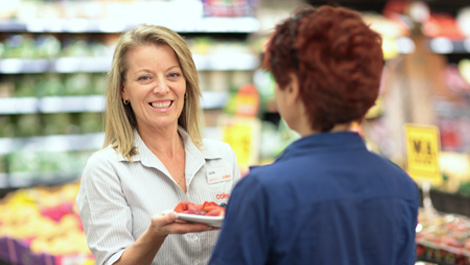Age_above_50: (121, 37, 193, 122)
E_White: (121, 37, 193, 122)
Emotion_Happy: (121, 37, 193, 122)
G_ Female: (121, 37, 193, 122)
Not_Face: (270, 21, 381, 132)
